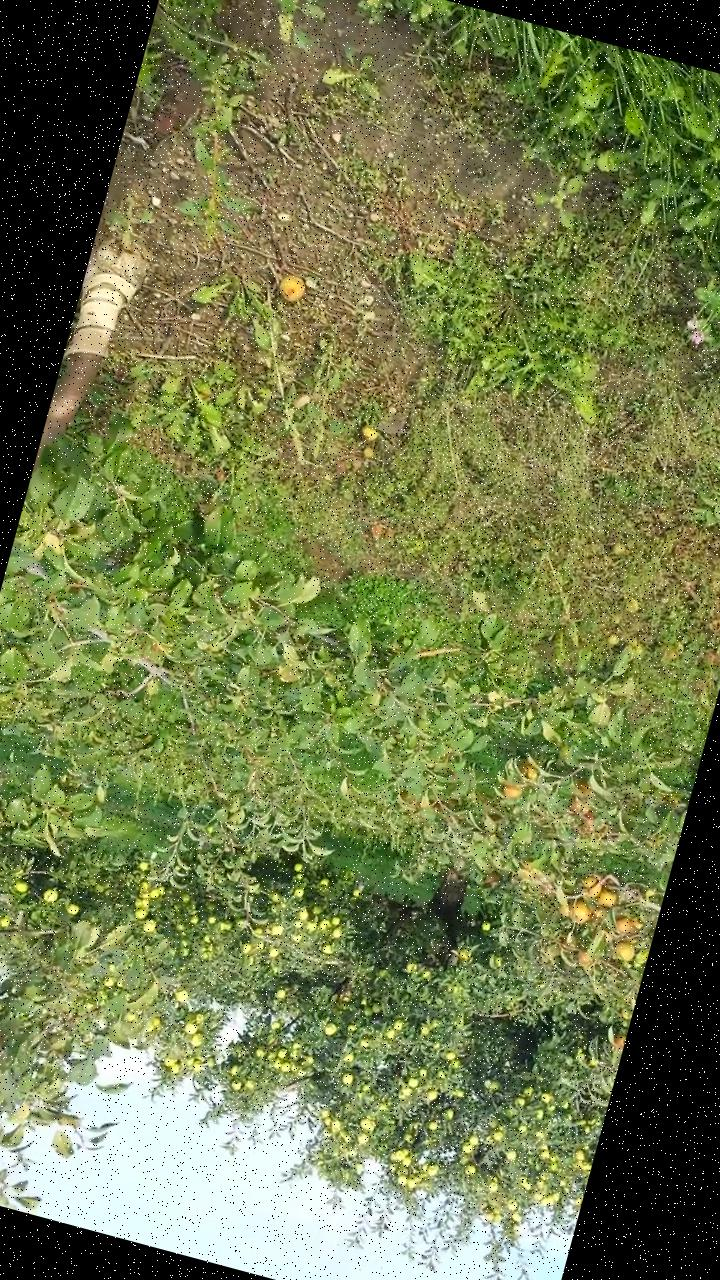Apple: (568, 898, 594, 927), (595, 886, 621, 914), (612, 940, 638, 964), (580, 874, 604, 900), (518, 760, 542, 784), (612, 915, 634, 937), (501, 783, 524, 804), (578, 806, 597, 828), (567, 798, 586, 816), (576, 782, 596, 798), (628, 917, 646, 934), (576, 952, 594, 968), (558, 902, 574, 920), (611, 1032, 626, 1050)
